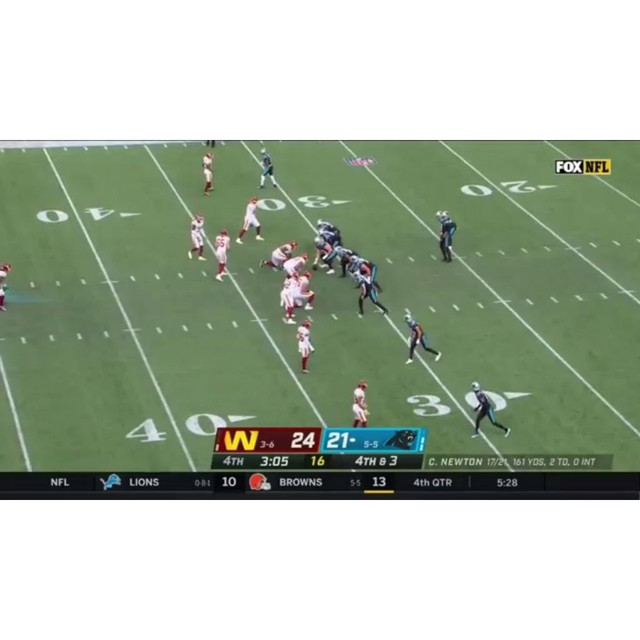american-football-player: (469, 381, 512, 439), (403, 313, 442, 364), (351, 270, 388, 317), (237, 196, 264, 243), (259, 241, 298, 273), (436, 210, 457, 264), (278, 275, 300, 325), (296, 319, 315, 374), (187, 212, 207, 261), (312, 235, 337, 274), (351, 380, 370, 428), (214, 228, 231, 281), (257, 146, 277, 189), (348, 255, 378, 282), (334, 245, 357, 277), (282, 253, 309, 280), (201, 151, 215, 195), (0, 263, 12, 314)
